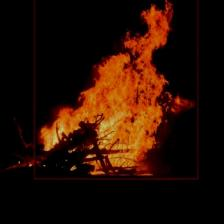fire: (34, 0, 199, 179)
